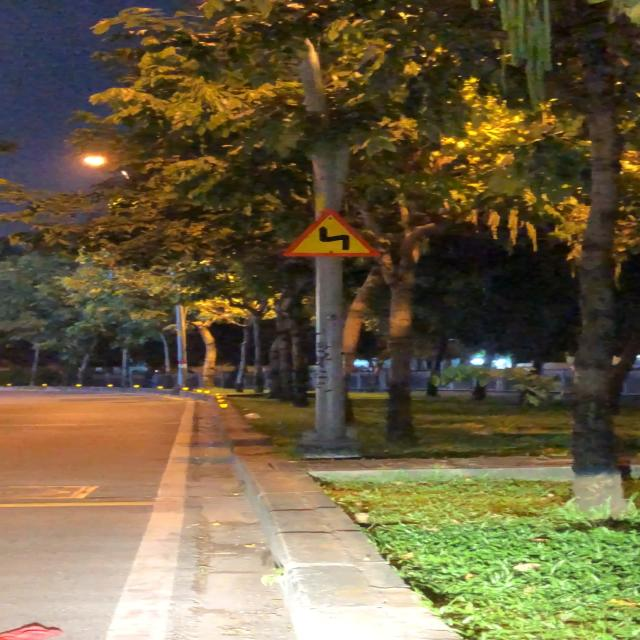Bien bao nhieu cho ngoat nguy hiem lien tiep: (276, 206, 385, 260)
